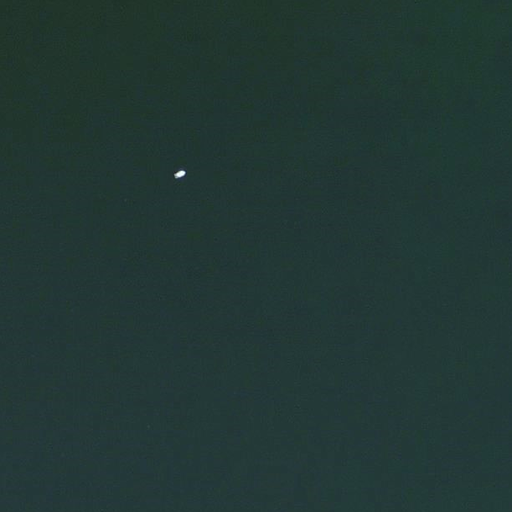ship: (169, 168, 189, 181)
